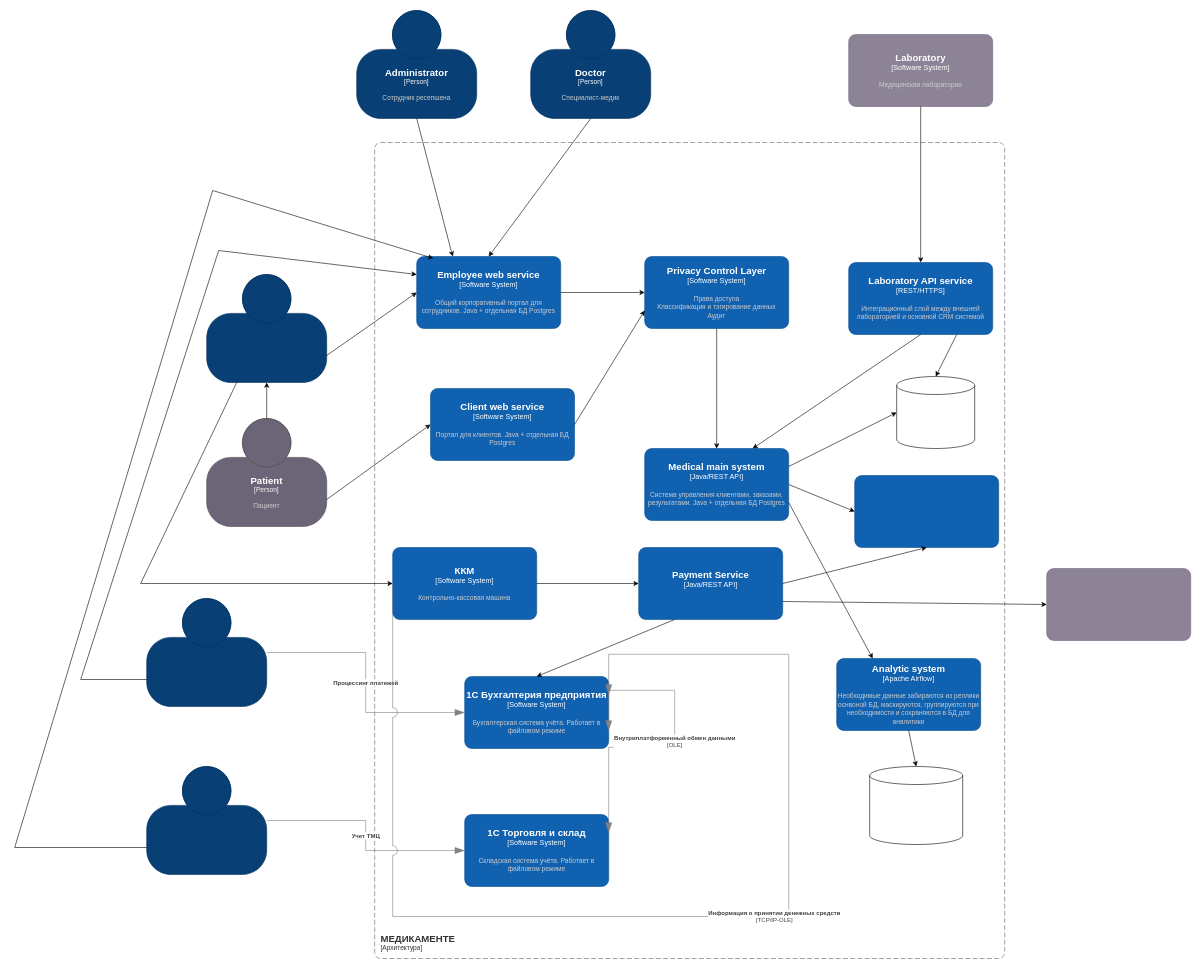
Some shapes in this 1201 by 969 pixel diagram are drawn without their labels. Here are the shapes that lost their labels. From the top down, the centre of each, then its label:
At (x=266, y=328): "Cassier [Person] Кассир".
At (x=935, y=412): "S3 Хранение документов, договоров, результатов".
At (x=926, y=511): "Secure Data Layer [Vault] Управление ключами, шифрование (AES-256)".
At (x=1118, y=604): "External Payment Systems [External System] Внешние платёжные системы".
At (x=206, y=652): "Bookkeeper [Person] Бухгалтер".
At (x=206, y=820): "Warehouse keeper [Person] Сотрудник склада".
At (x=916, y=805): "Analytic DB [Greenplum/Clickhouse] Анонимизированные данные".
